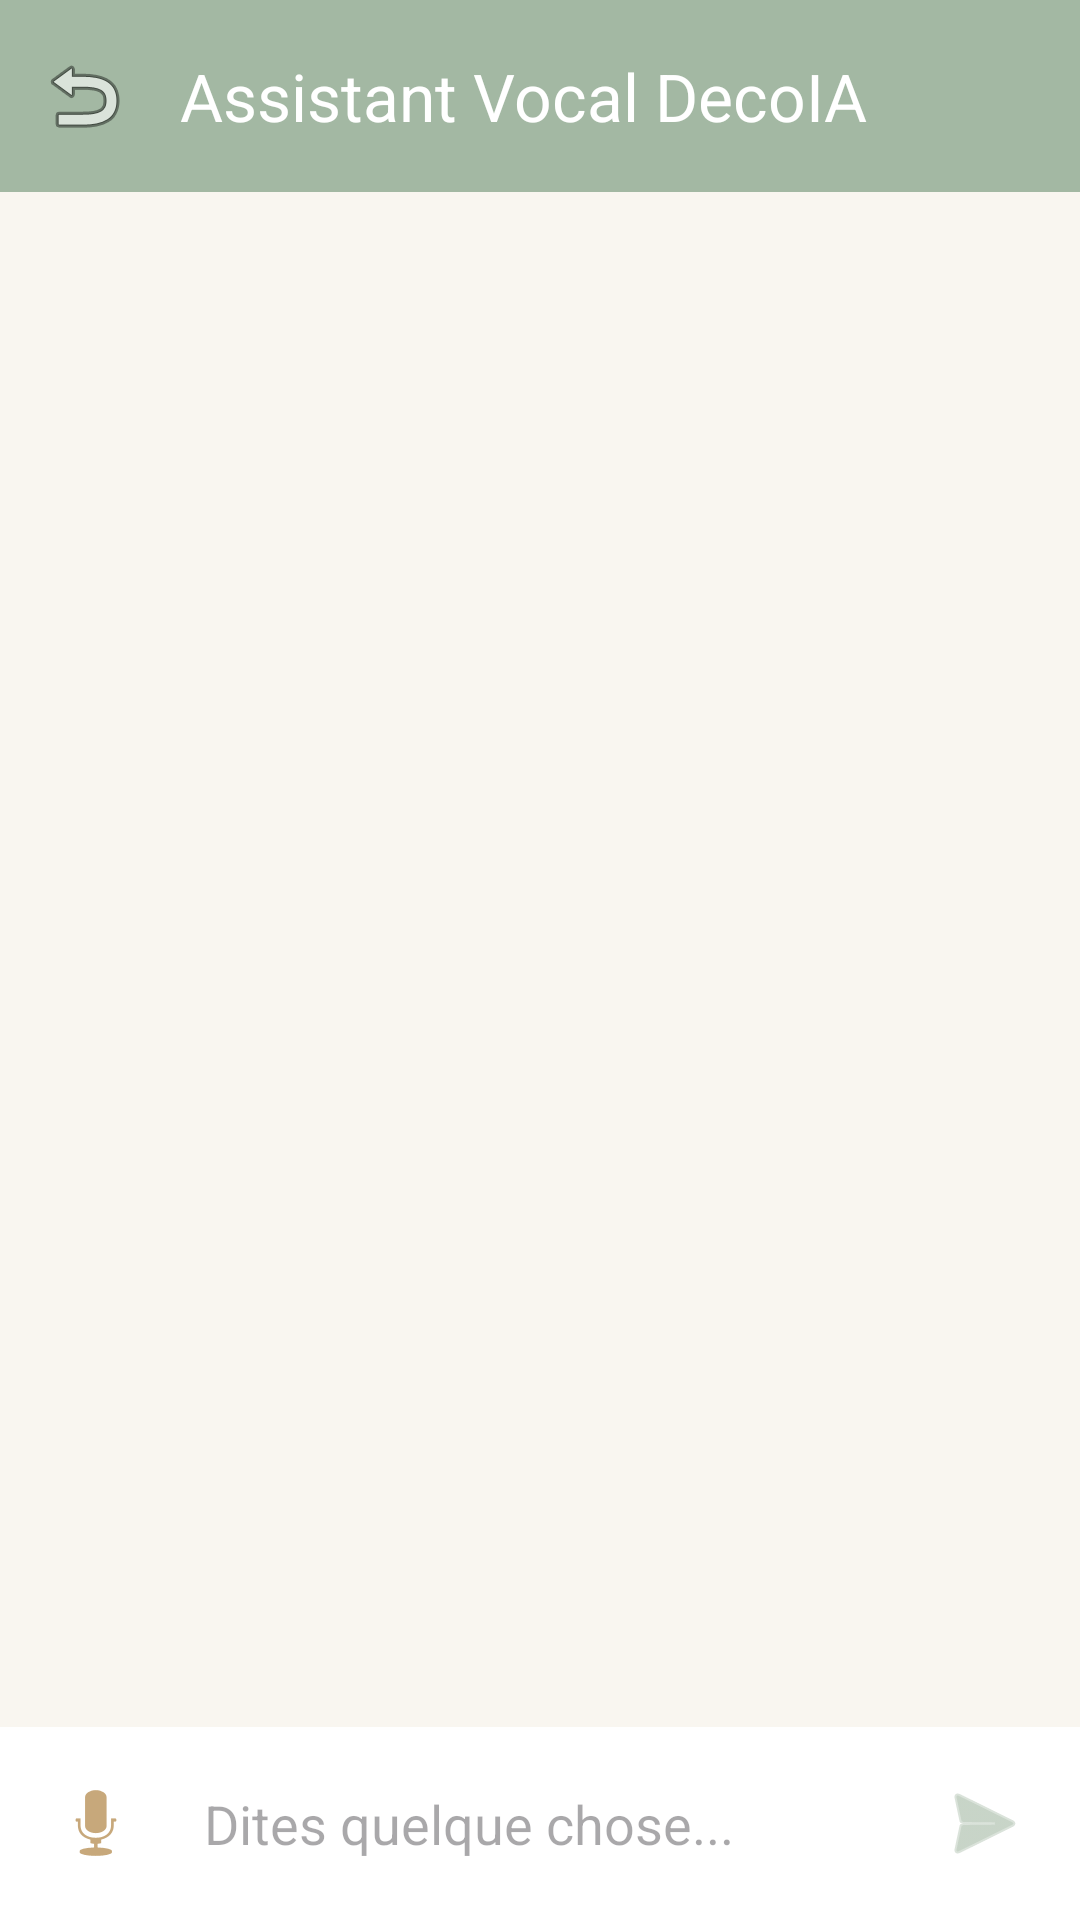

Locate icon controls on the screen. Image size 1080 × 1920, boxes as (x1, y1, x2, y2).
Envoyer: (955, 1794, 1015, 1853)
Microphone: (75, 1790, 117, 1856)
